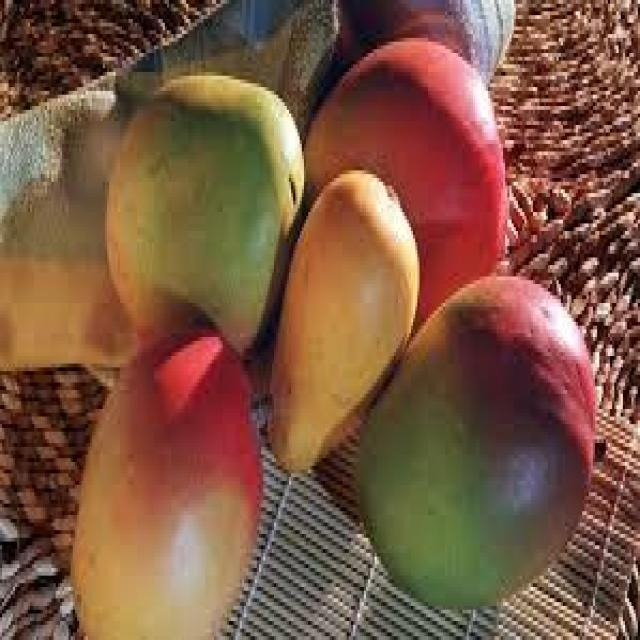mango: (355, 276, 597, 610)
